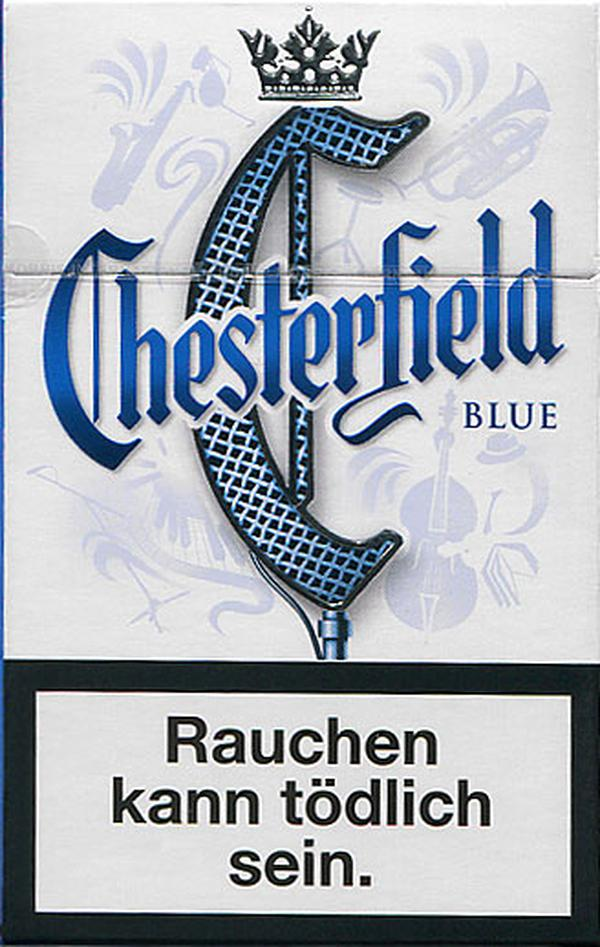chesterfield_blue: (3, 1, 599, 947)
